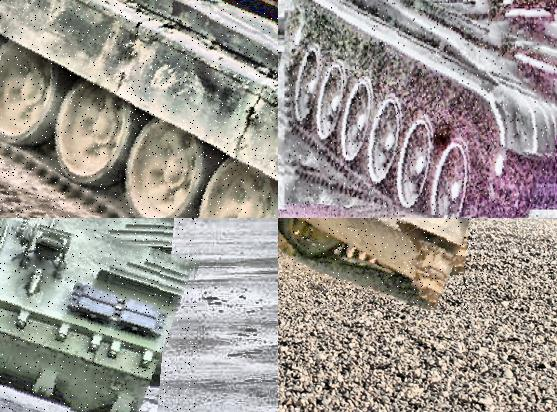tanks: (1, 1, 279, 219), (286, 1, 555, 218), (1, 219, 197, 412), (279, 219, 472, 311)
